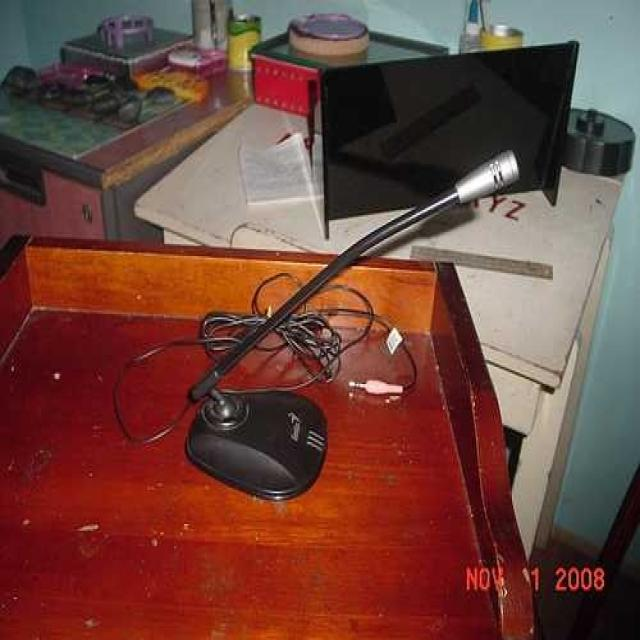microphone: (414, 149, 526, 222)
